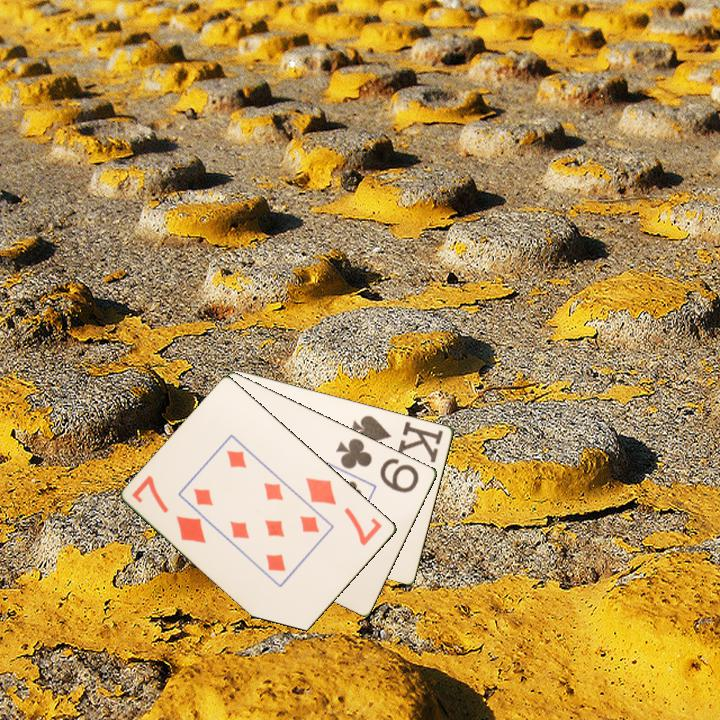7d: (302, 474, 386, 549), (128, 471, 209, 546)
9c: (332, 434, 422, 496)
Ks: (348, 412, 447, 465)
